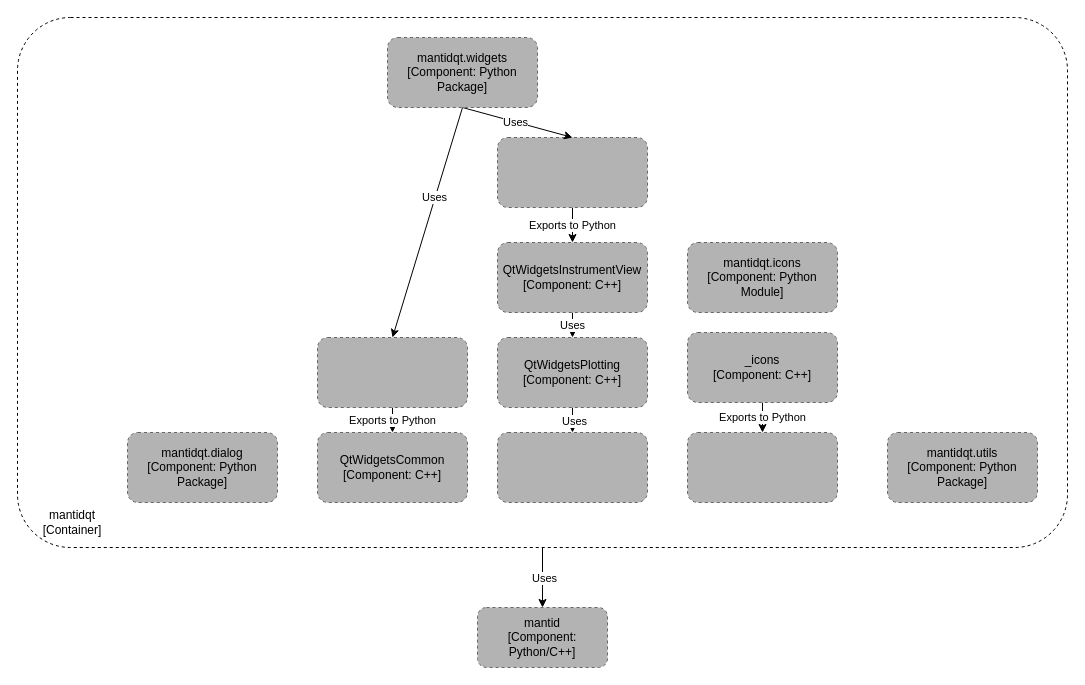
Image size: 1085x685. Some labels were removed from this diagram. The centre of each missing label's shape, as x and y in pixels:
_common [Component: sip]: (x=392, y=372)
_instrumentview [Component: sip]: (x=572, y=172)
QtIcons [Component: C++]: (x=762, y=467)
QtWidgetsMplCpp [Component: C++]: (x=572, y=467)
